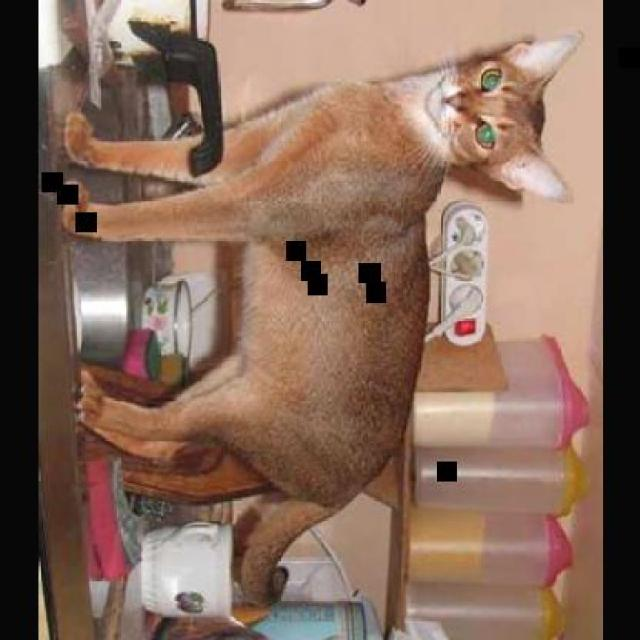unauthorized: (59, 28, 583, 608)
